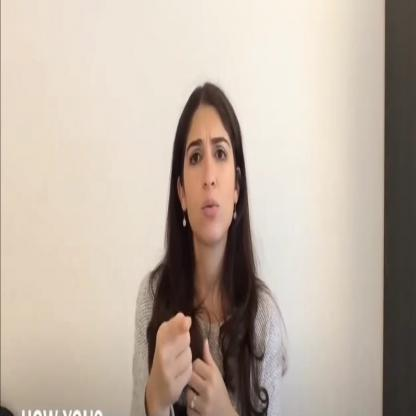HowAreYou: (147, 306, 225, 416)
